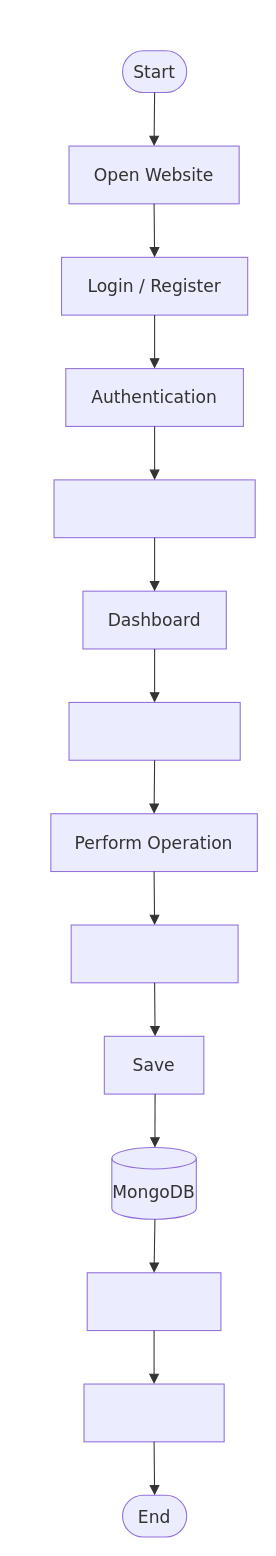
Some shapes in this 276 by 1556 pixel diagram are drawn without their labels. The box of each missing label's shape, as (x1, y1, x2, y2) in pixels:
Identify User Role: (53, 479, 255, 538)
Response: (86, 1272, 221, 1331)
Select Module: (68, 701, 240, 760)
Update UI: (83, 1383, 224, 1442)
Validate Data: (70, 924, 238, 983)
